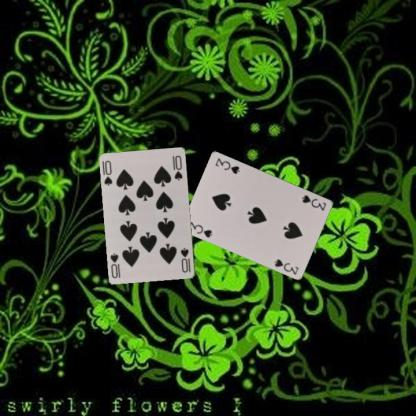10s: (102, 158, 114, 188), (178, 245, 190, 274)
3s: (185, 219, 214, 239), (299, 192, 328, 211)
